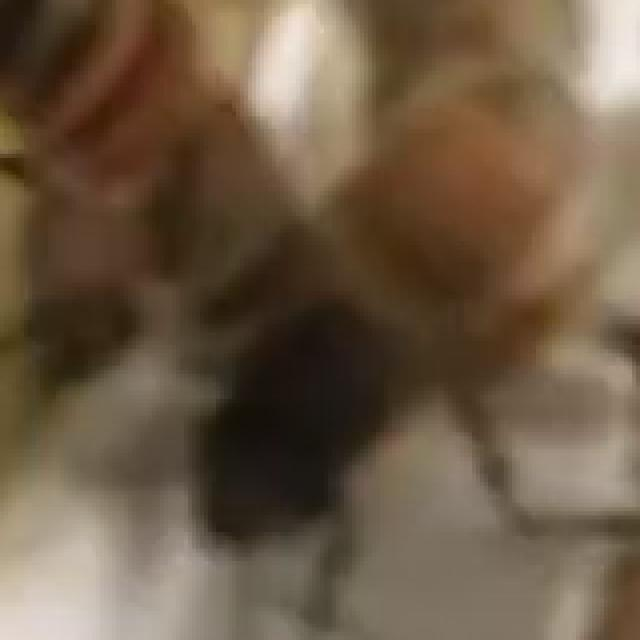honeybee: (211, 81, 591, 574), (0, 0, 317, 334)
